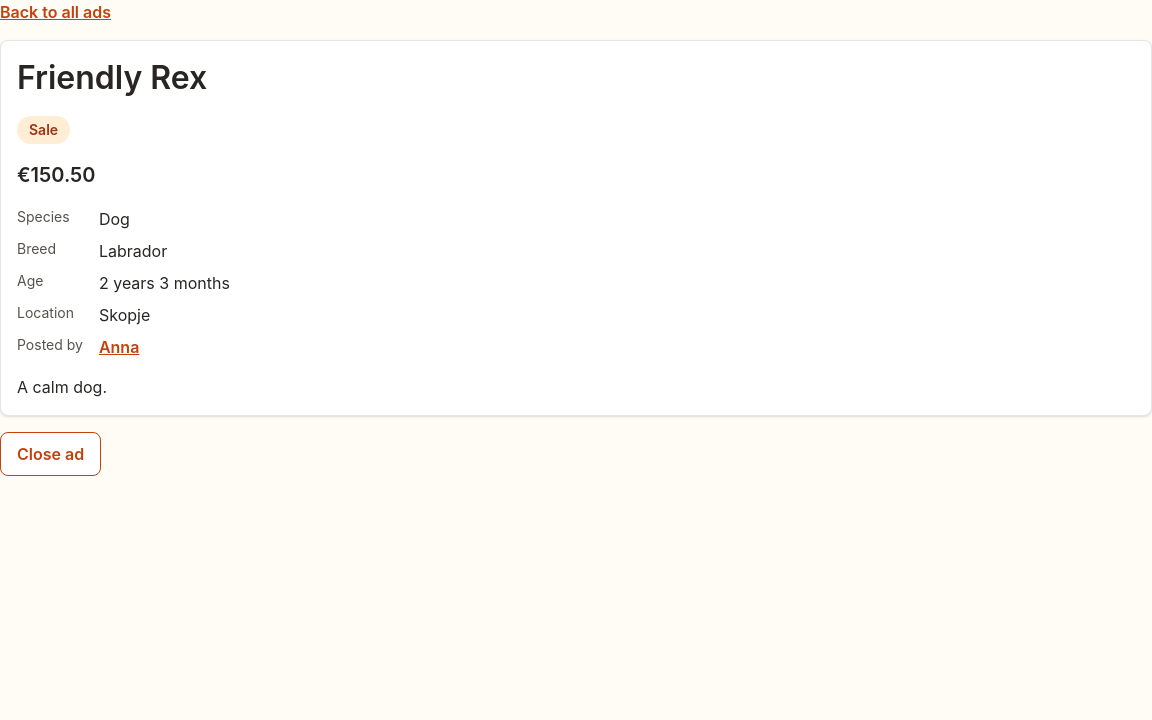
PetAdDetailsPage close ad › shows the message on 409 and, after OK, the not found text with focus on the heading
Click the button "Close ad": (51, 454) [0, 432, 101, 476]
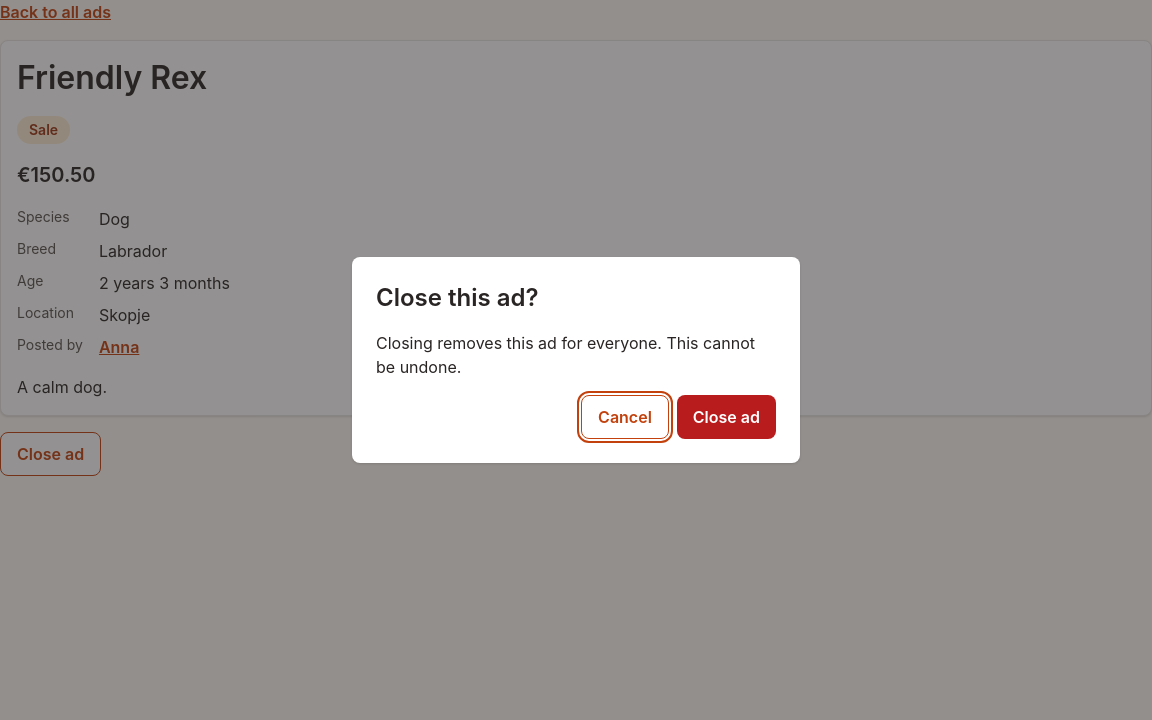
Click the button "Close ad": (726, 417) [677, 395, 776, 439]
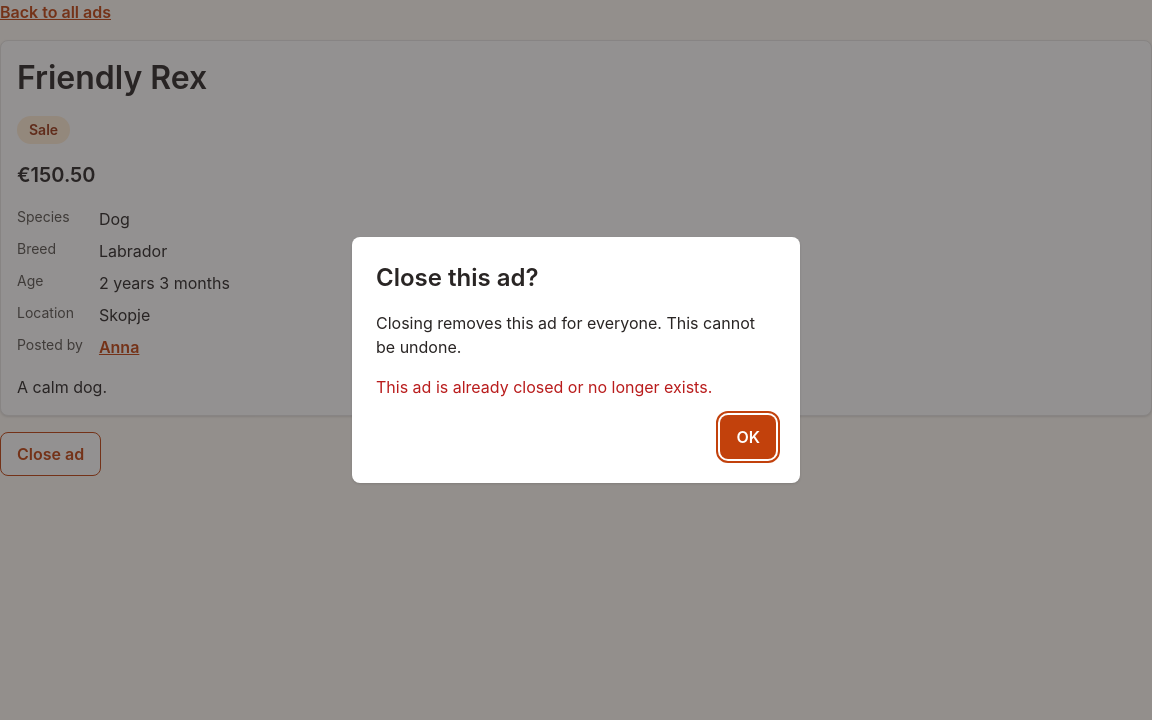
Check: the message reads "This ad is already closed or no longer exists.", box [376, 377, 712, 397]
Click the button "OK": (748, 437) [720, 415, 776, 459]
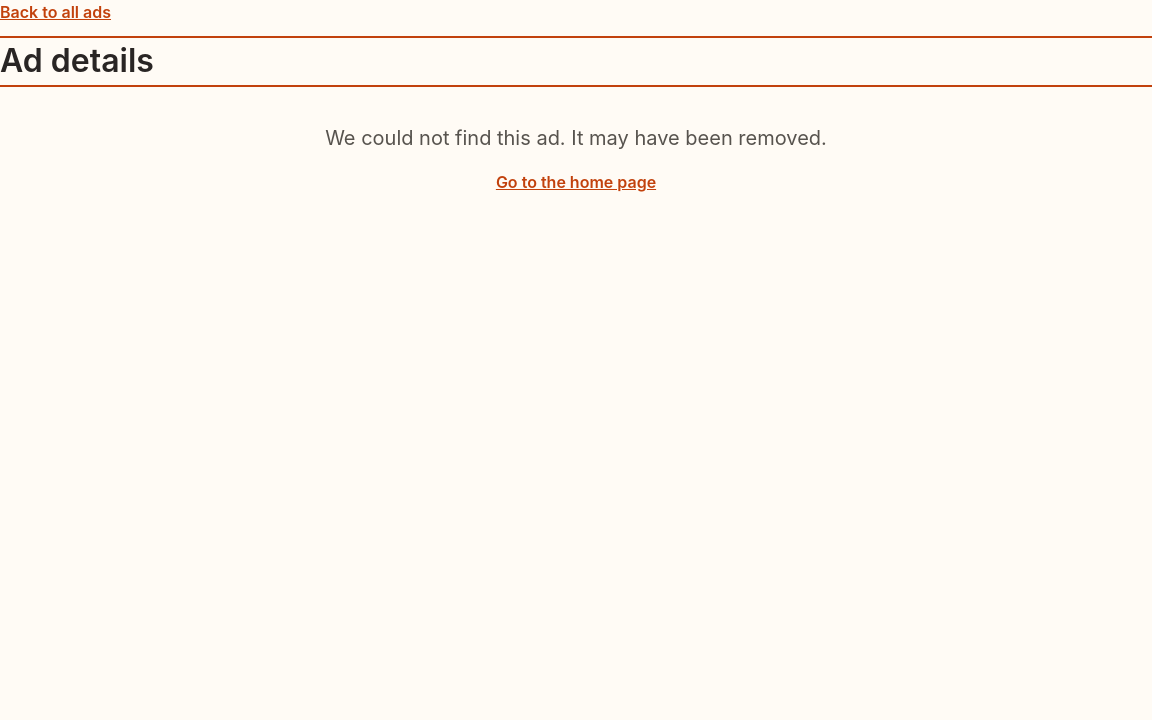
Check: the text "We could not find this ad. It may have been removed." is shown, box [325, 123, 827, 154]
